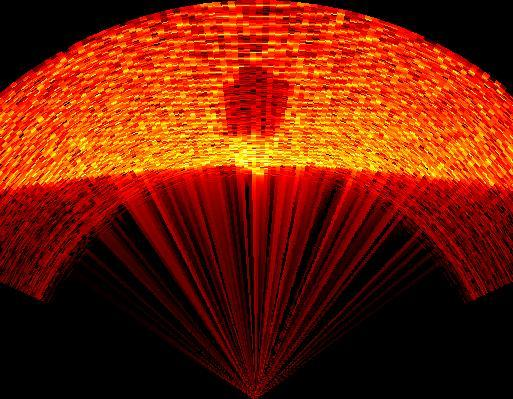box_crate: (220, 60, 294, 179)
